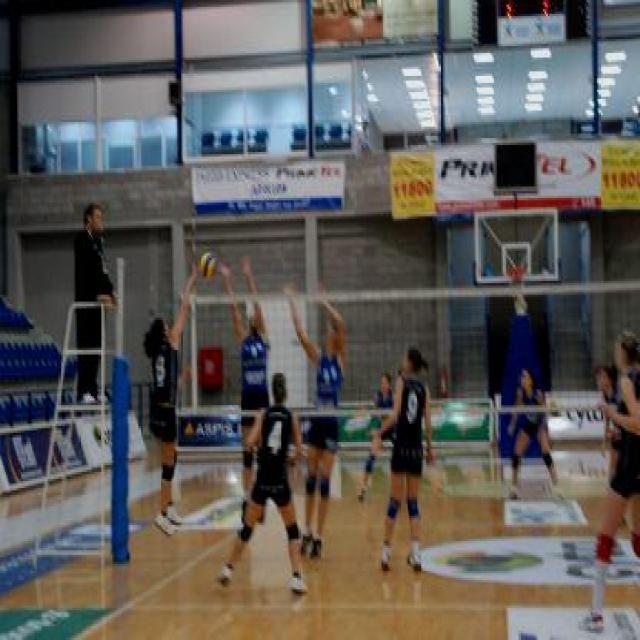volleyball: (200, 252, 218, 280)
